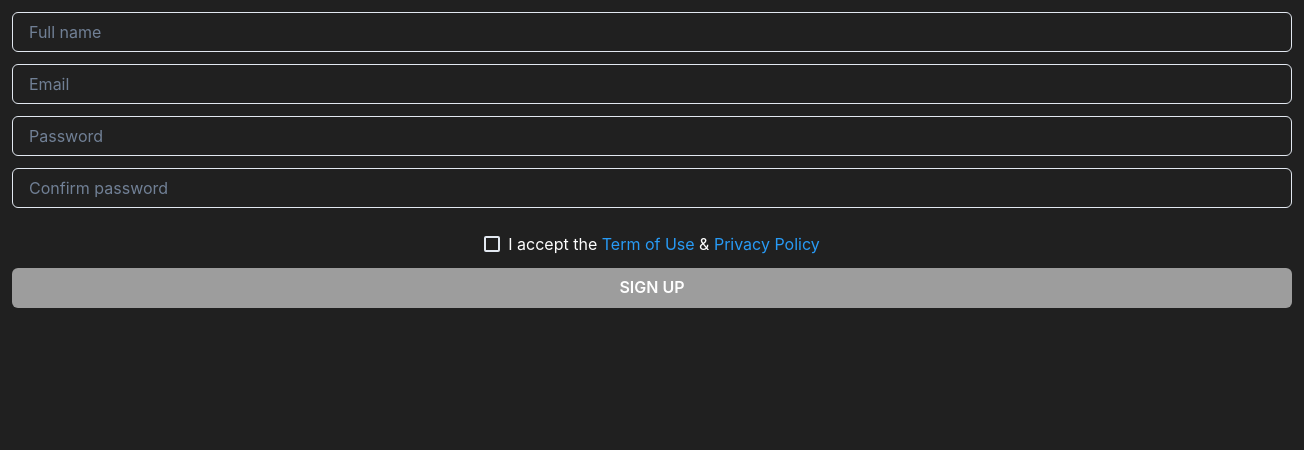
Scenario: Test sign up form › checks that error messages
This screenshot has width=1304, height=450.
What coordinates should you click on to do the following:
click the button "Sign up"
I would click on:
 (652, 288)
Its box is x1=12 y1=268 x2=1292 y2=308.
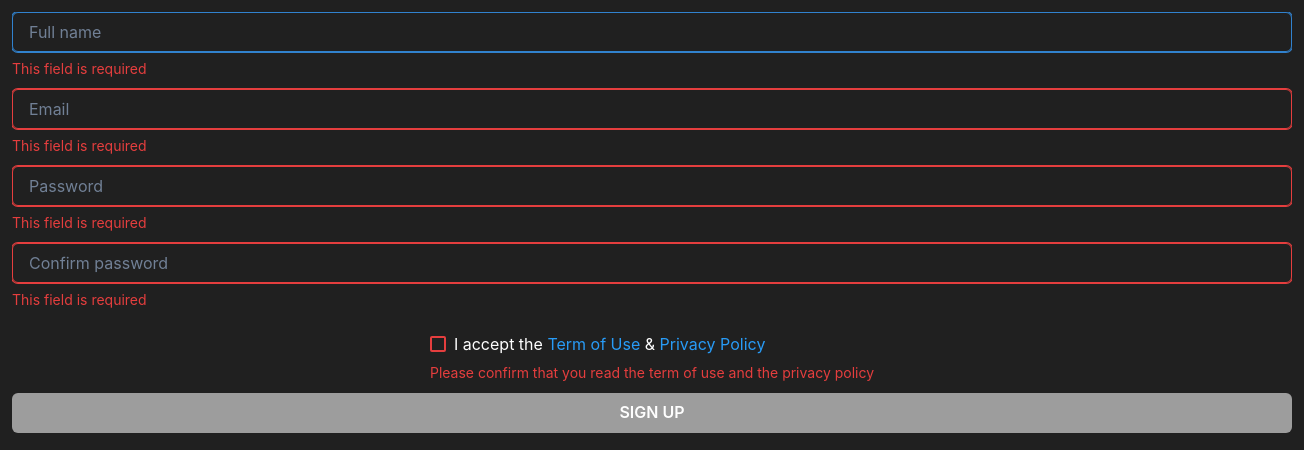
Expected: the text "Please confirm that you read the term of use and the privacy policy" is shown, x1=430 y1=364 x2=874 y2=381
Expected: the text "This field is required" is shown 4 times, x1=12 y1=60 x2=147 y2=77; x1=12 y1=137 x2=147 y2=154; x1=12 y1=214 x2=147 y2=231; x1=12 y1=291 x2=147 y2=308
